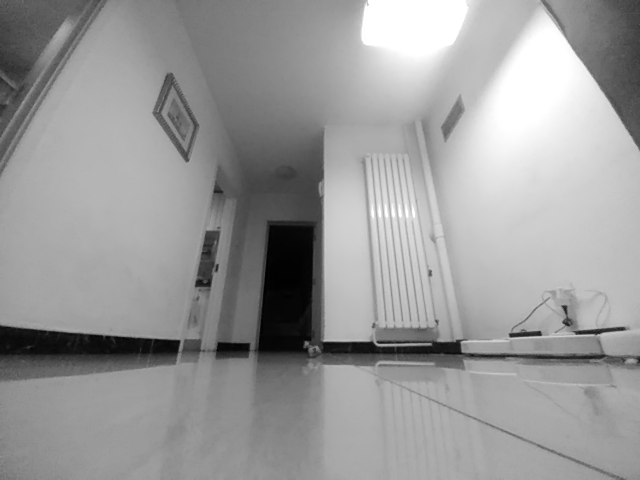toy: (302, 339, 323, 359)
